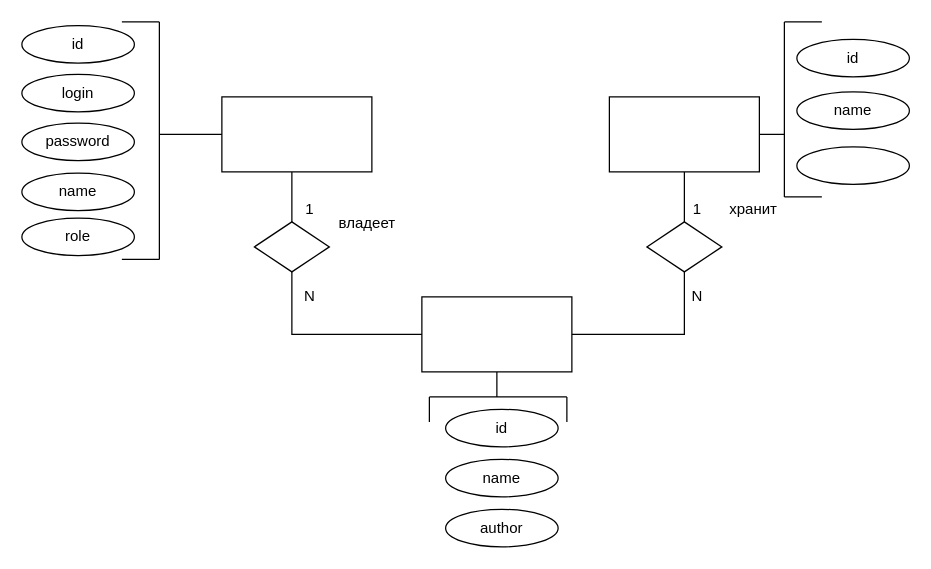
Some shapes in this 931 by 569 pixel diagram are drawn without their labels. The centre of each missing label's shape, as x and y in pixels:
"Account" goes at (x=296, y=134).
"address" goes at (x=852, y=165).
"Book" goes at (x=496, y=334).
"Library" goes at (x=683, y=134).
